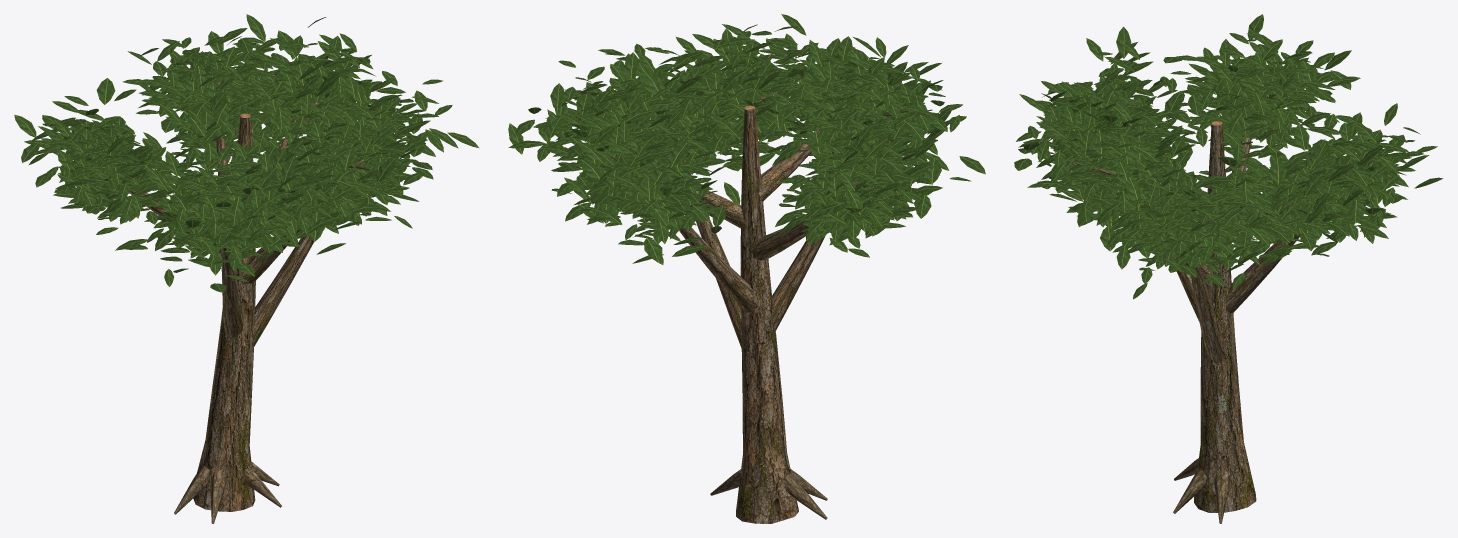
File: dense-2.obj
The picture shows the model from 3 angles, left to right: view 1: azimuth 30°, elevation 25°; view 2: azimuth 150°, elevation 25°; view 3: azimuth 270°, elevation 25°; orthographic projection. The views are drawn at different scales.
Size of the model in its own units: 8.85 by 9.26 by 8.67.
1 material, 1 textured.
